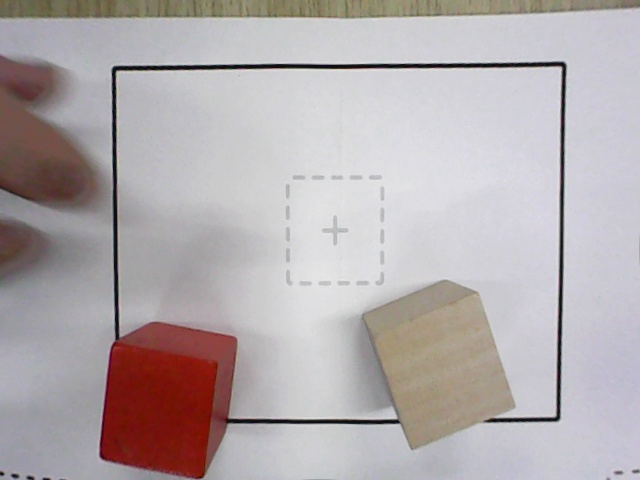upside of big cube: (372, 291, 516, 453), (97, 343, 218, 479)
